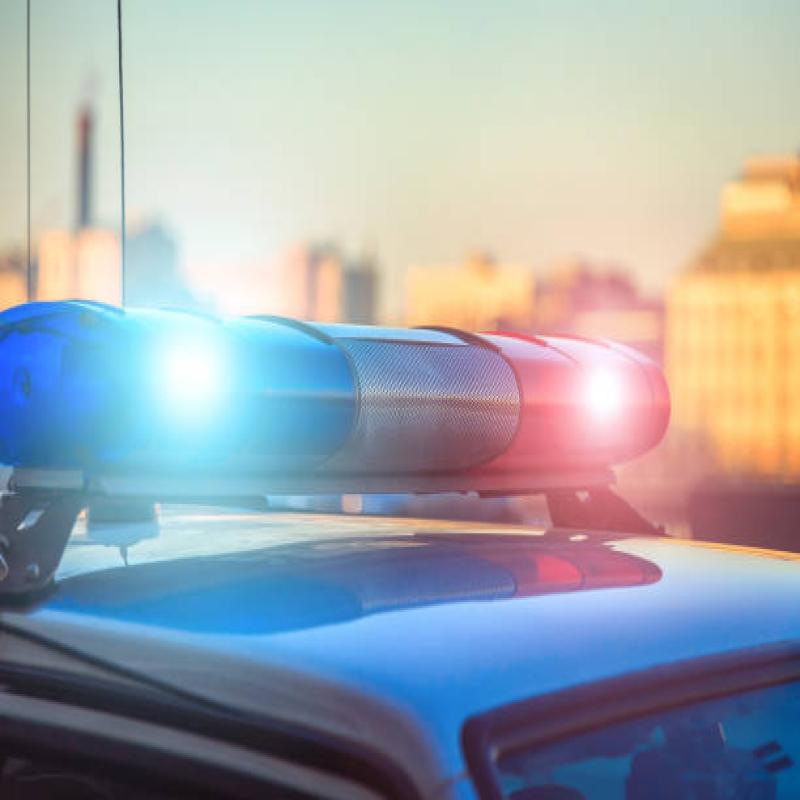AmbulanceSiren: (0, 258, 676, 507)
